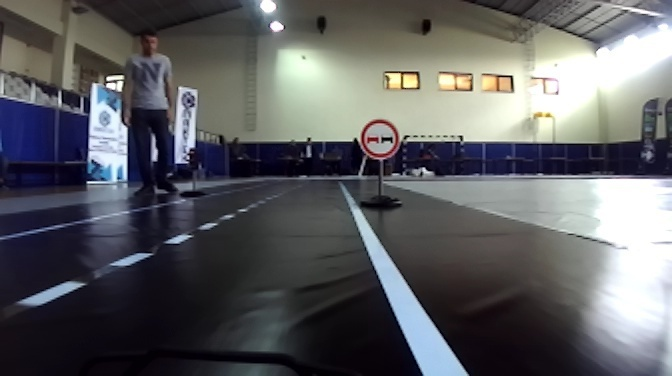sollama_yasak: (359, 120, 399, 163)
